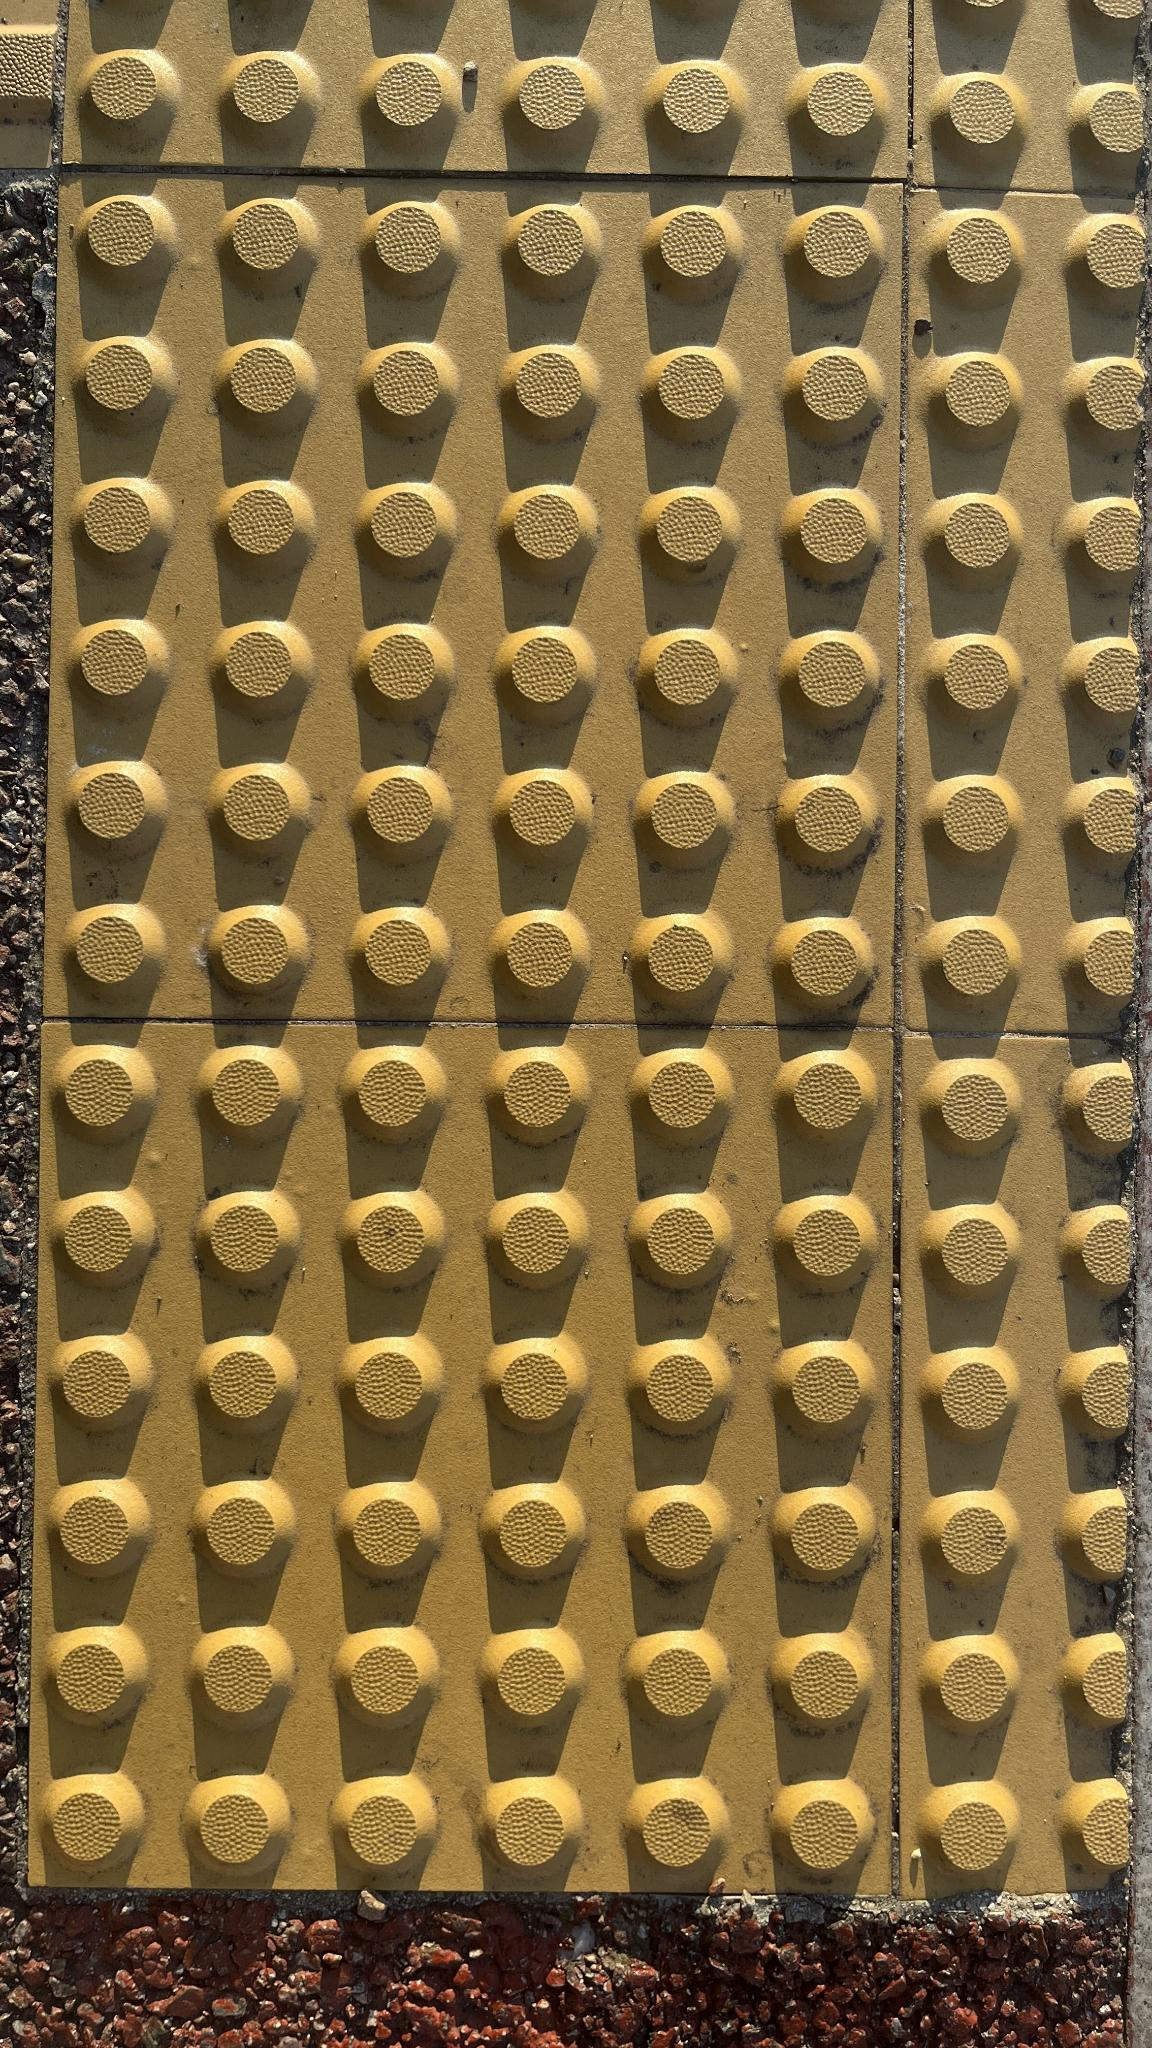Stop block normal: (46, 1028, 889, 1886)
